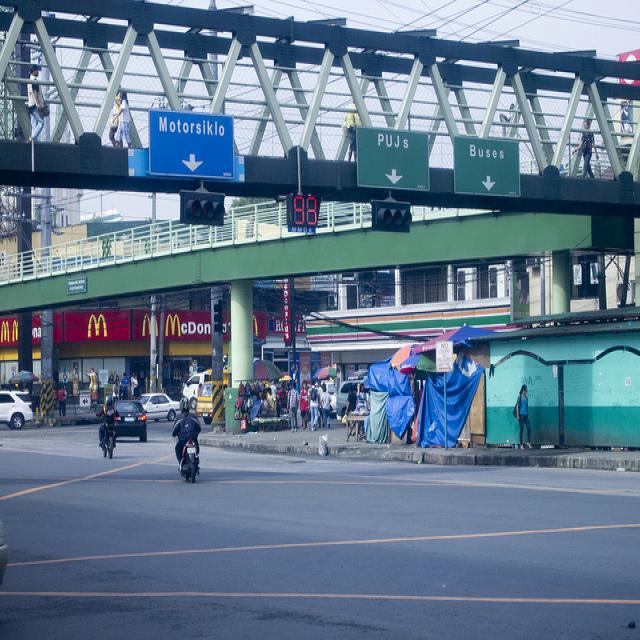motor: (177, 439, 201, 485), (96, 413, 120, 458), (179, 396, 190, 413)
